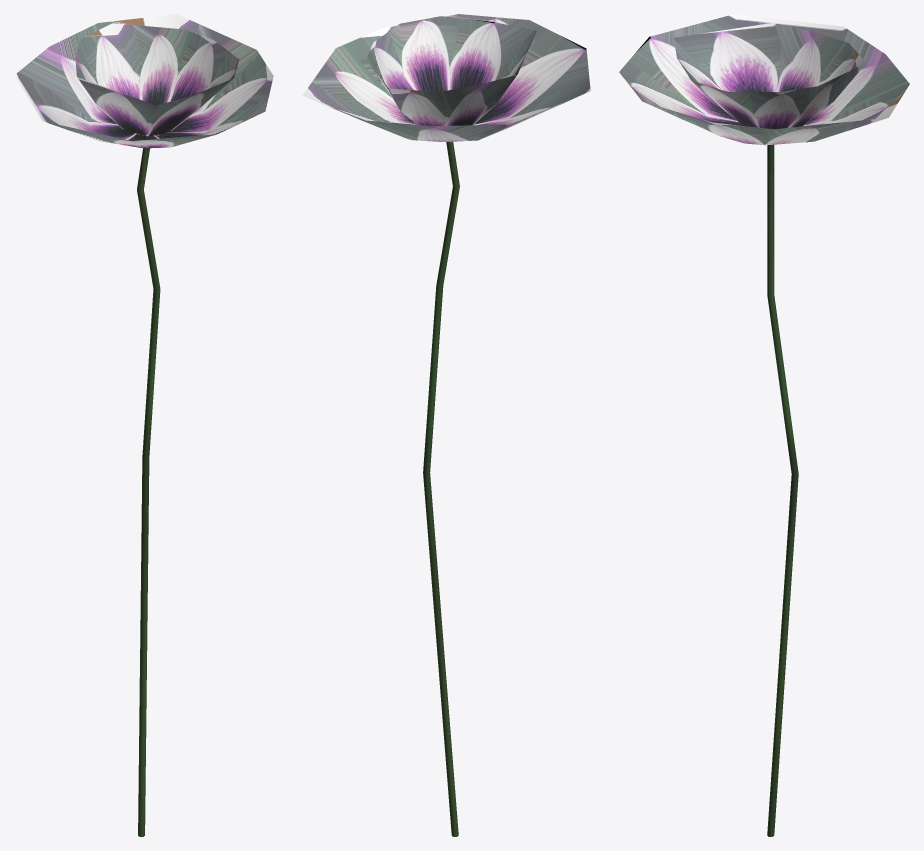
File: water_lily.glb
3 views of the same model, side by side, from view 1: azimuth 30°, elevation 25°; view 2: azimuth 150°, elevation 25°; view 3: azimuth 270°, elevation 25° (orthographic).
Visible parts, largest first — view 1: Plane; view 2: Plane; view 3: Plane.
Part boxes in pixels (x1,y1,x2,y2): Plane: (14,14,273,836); Plane: (302,14,590,836); Plane: (619,14,909,836).
Bounding box in the file's own units: 5.79 × 18.31 × 6.18.
Materials: 1 (1 with a texture image).
